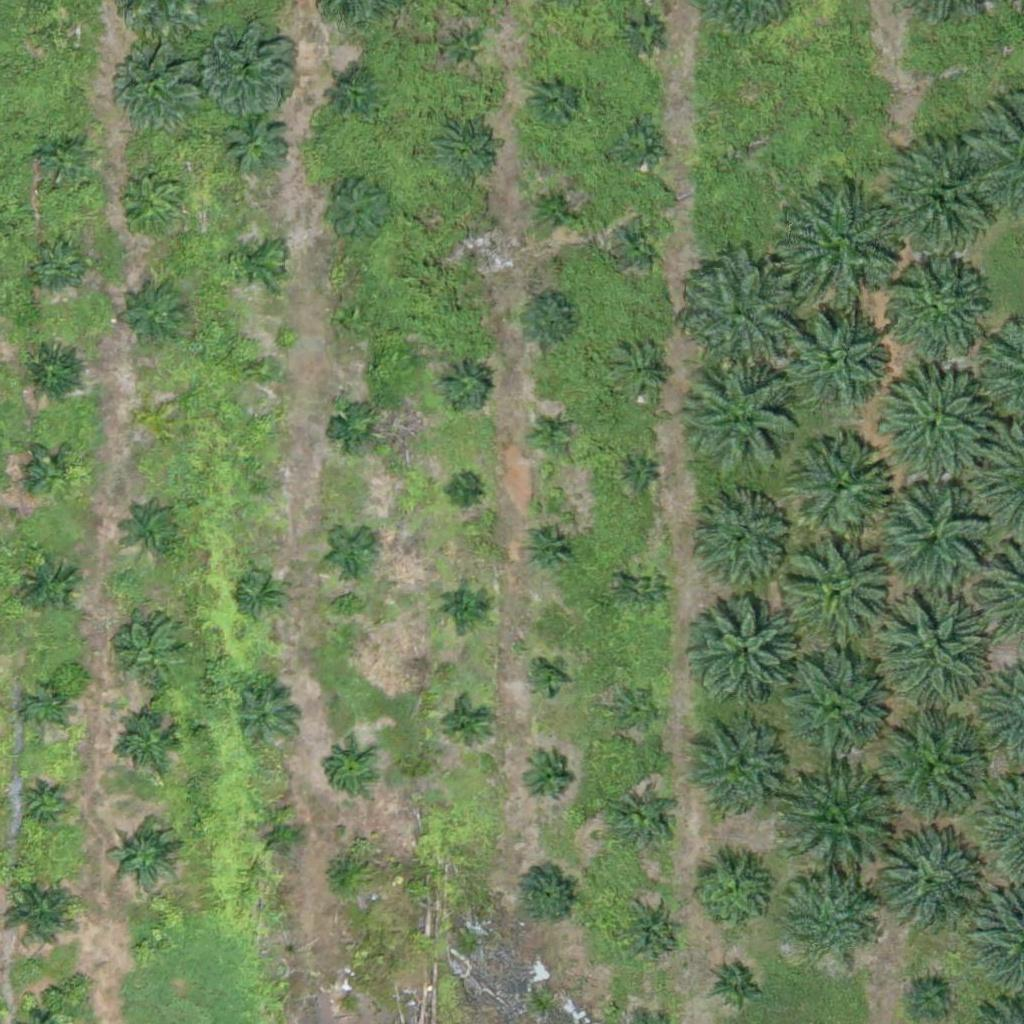Kelapa_Sawit: (782, 184, 907, 310), (869, 585, 994, 711), (884, 138, 997, 252), (874, 365, 987, 478), (873, 482, 986, 595), (870, 826, 983, 939), (876, 714, 988, 828), (784, 770, 896, 884), (780, 654, 892, 768), (783, 537, 895, 651), (683, 257, 795, 370), (692, 363, 804, 476), (785, 307, 885, 408), (791, 435, 891, 536), (204, 16, 304, 117), (884, 256, 984, 356), (696, 601, 796, 701), (684, 727, 784, 827), (686, 850, 773, 938), (701, 497, 788, 585), (117, 49, 204, 137), (786, 877, 873, 965), (106, 821, 181, 897), (318, 172, 393, 247), (621, 902, 684, 965), (235, 685, 298, 748), (516, 861, 579, 924), (123, 284, 186, 347), (22, 339, 85, 402), (32, 129, 95, 192), (516, 289, 579, 352), (615, 792, 677, 855), (18, 556, 80, 619), (118, 713, 180, 776), (120, 623, 183, 685), (126, 501, 188, 564), (434, 120, 496, 183), (225, 111, 287, 174), (123, 174, 185, 237), (709, 954, 771, 1017), (438, 698, 488, 749), (522, 752, 572, 803), (615, 346, 665, 397), (231, 234, 281, 285), (438, 359, 488, 410), (531, 181, 581, 232), (256, 811, 306, 862), (318, 846, 368, 897), (620, 564, 670, 614), (440, 581, 490, 631), (328, 526, 378, 576), (28, 448, 78, 498), (235, 569, 285, 619), (323, 744, 373, 794), (30, 241, 80, 291), (529, 72, 579, 122), (330, 406, 380, 456), (615, 219, 665, 269), (618, 9, 668, 59), (614, 120, 664, 170), (434, 24, 484, 74), (526, 409, 576, 459), (609, 683, 659, 733), (525, 523, 575, 573), (904, 973, 954, 1023), (17, 779, 66, 830), (338, 302, 376, 340), (529, 658, 567, 696), (336, 78, 374, 115), (44, 16, 82, 53), (27, 688, 64, 726), (461, 235, 486, 260), (627, 464, 652, 489), (450, 478, 475, 503), (249, 471, 274, 496), (249, 355, 274, 380), (144, 409, 169, 434), (333, 989, 358, 1014), (134, 936, 159, 961)
